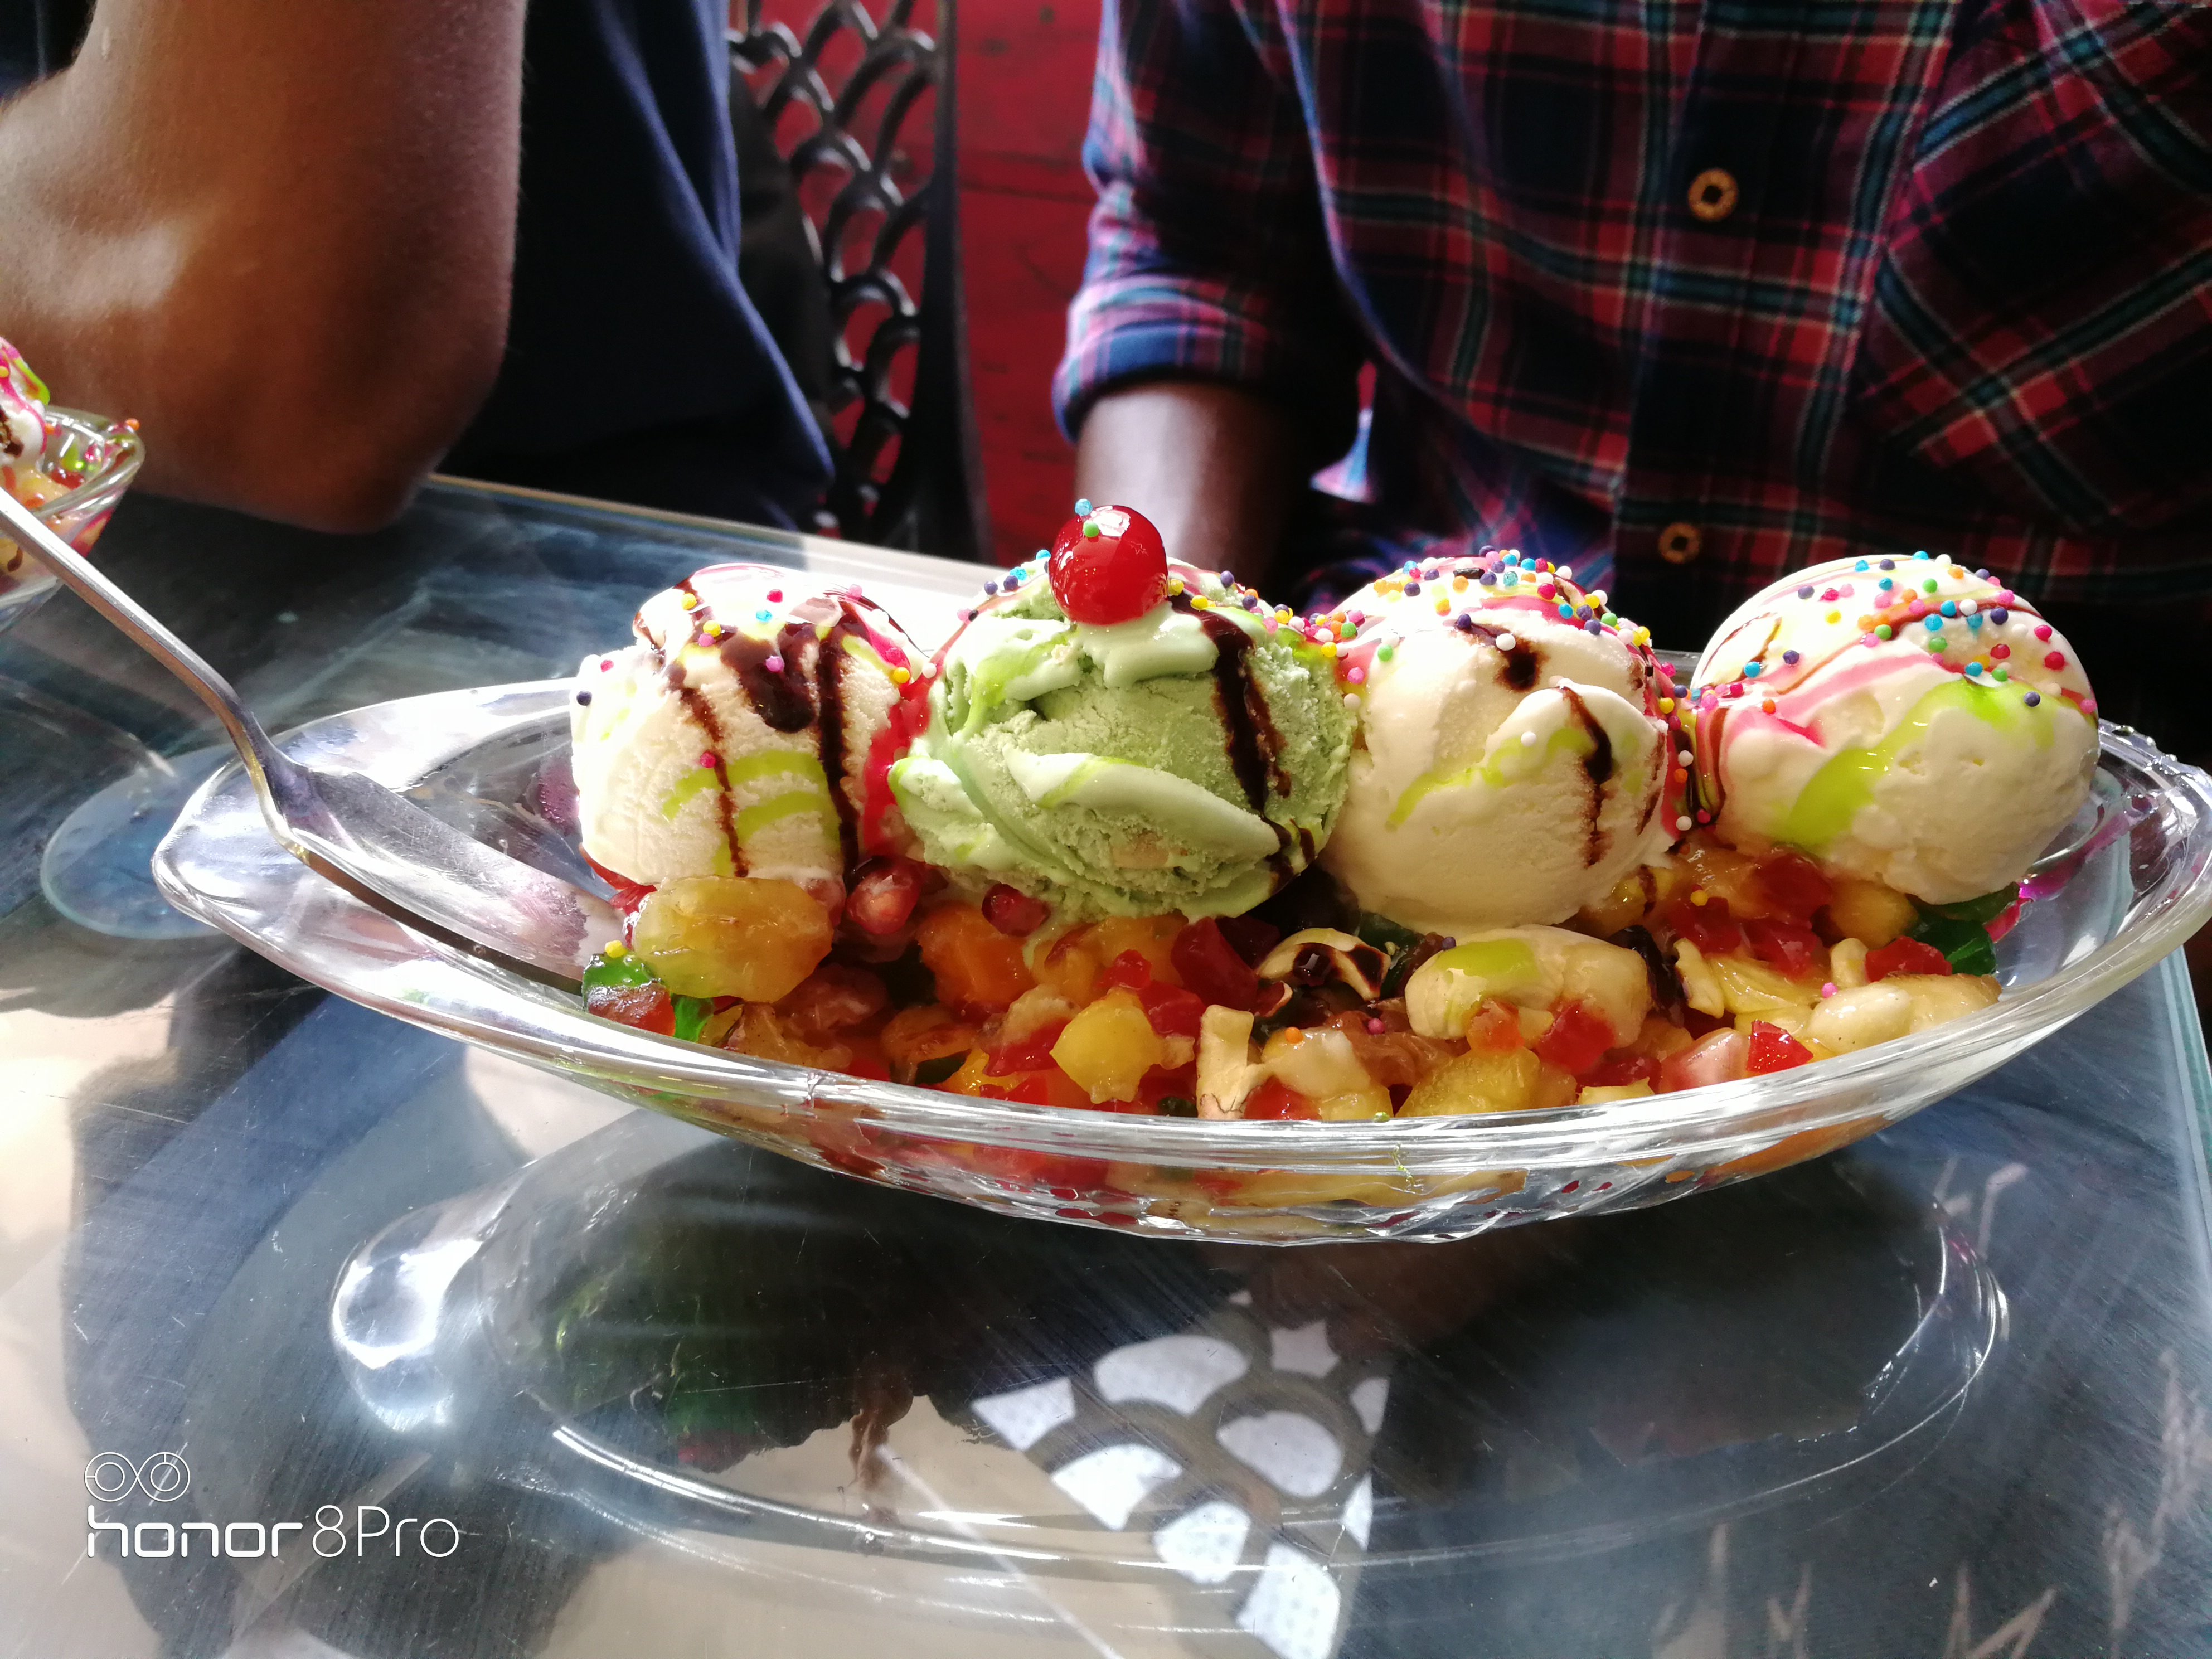food: (557, 495, 2104, 1127)
